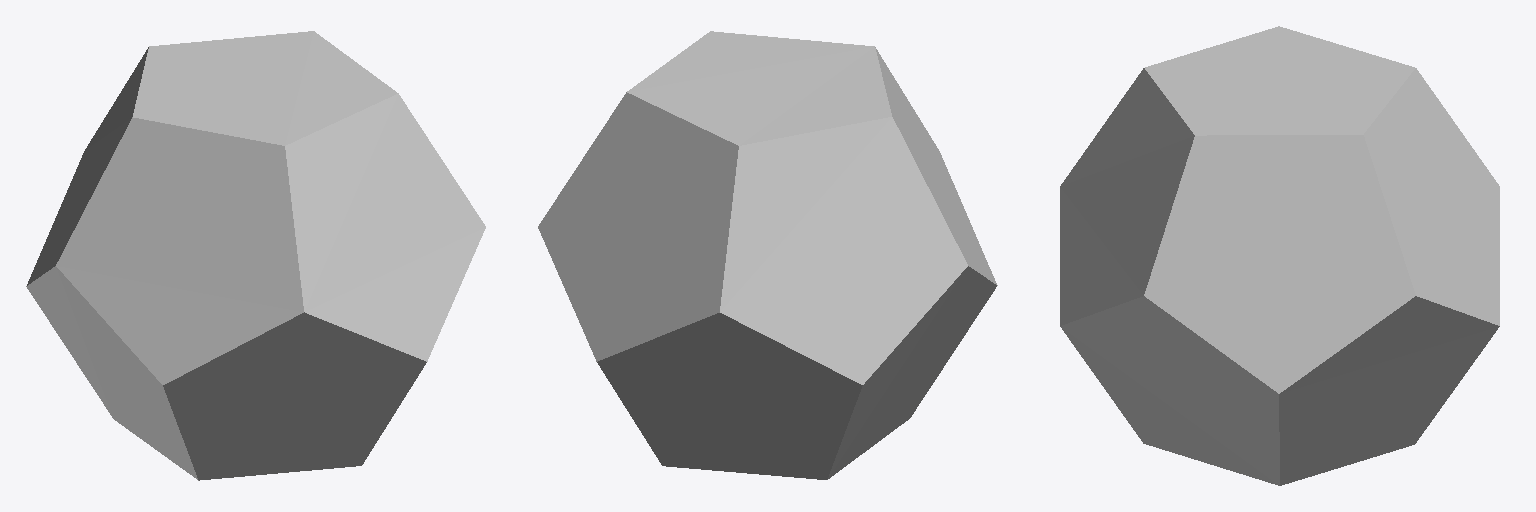
3 views of the same model, side by side, from view 1: azimuth 30°, elevation 25°; view 2: azimuth 150°, elevation 25°; view 3: azimuth 270°, elevation 25° (orthographic).
Visible parts, largest first — view 1: cell.03_Icosphere.005, cell.02_Icosphere.004, cell.01_Icosphere.006, cell.12_Icosphere.015, cell.08_Icosphere.011, cell.10_Icosphere.013; view 2: cell.10_Icosphere.013, cell.11_Icosphere.014, cell.09_Icosphere.012, cell.12_Icosphere.015, cell.08_Icosphere.011, cell.03_Icosphere.005; view 3: cell.07_Icosphere.010, cell.06_Icosphere.009, cell.05_Icosphere.008, cell.11_Icosphere.014, cell.02_Icosphere.004, cell.12_Icosphere.015.
Boxes of the visible parts, <box> form: cell.03_Icosphere.005: <box>56,117,303,384</box>; cell.02_Icosphere.004: <box>285,93,485,361</box>; cell.01_Icosphere.006: <box>163,312,426,480</box>; cell.12_Icosphere.015: <box>133,31,397,145</box>; cell.08_Icosphere.011: <box>26,266,198,480</box>; cell.10_Icosphere.013: <box>27,47,148,285</box>; cell.10_Icosphere.013: <box>720,117,967,384</box>; cell.11_Icosphere.014: <box>538,92,738,361</box>; cell.09_Icosphere.012: <box>597,313,862,479</box>; cell.12_Icosphere.015: <box>627,31,891,145</box>; cell.08_Icosphere.011: <box>827,266,996,479</box>; cell.03_Icosphere.005: <box>875,47,997,285</box>; cell.07_Icosphere.010: <box>1144,135,1415,393</box>; cell.06_Icosphere.009: <box>1279,296,1499,485</box>; cell.05_Icosphere.008: <box>1060,296,1279,485</box>; cell.11_Icosphere.014: <box>1364,68,1499,325</box>; cell.02_Icosphere.004: <box>1060,68,1194,325</box>; cell.12_Icosphere.015: <box>1145,26,1414,135</box>.
Size of the model in its own units: 8.45 by 6.86 by 8.04.